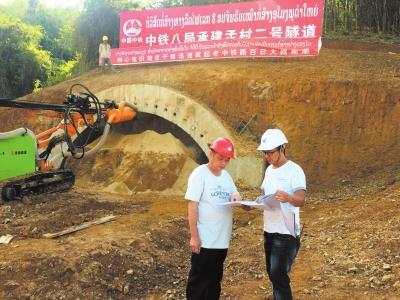helmet: (257, 126, 290, 167), (208, 137, 235, 172)
